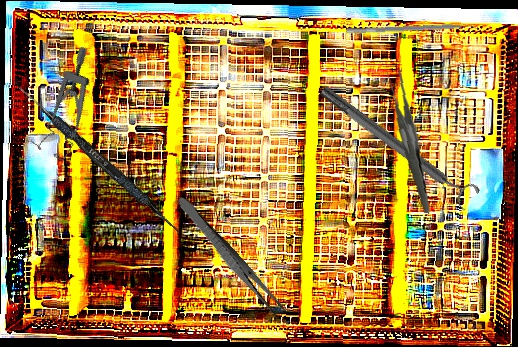Dressing Forceps: (172, 194, 288, 320), (374, 68, 443, 214)
Fixation Ring: (314, 77, 482, 213)
Spatula Surgical: (7, 78, 188, 237), (345, 21, 482, 40)
Speculum: (21, 44, 121, 165)
